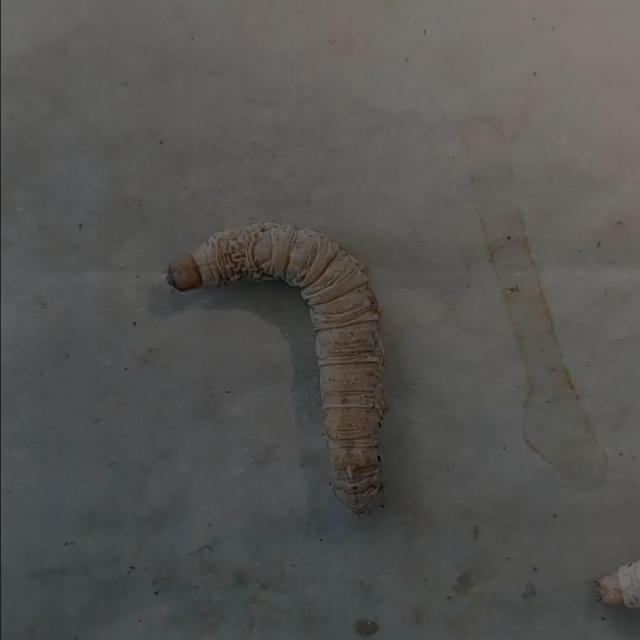Grasserie: (153, 188, 413, 536)
